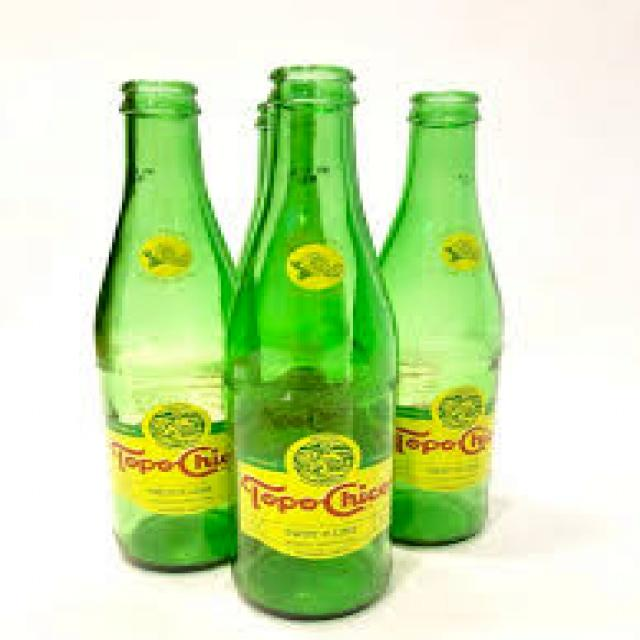Glass: (226, 64, 393, 621), (87, 76, 240, 574), (391, 85, 510, 551)
